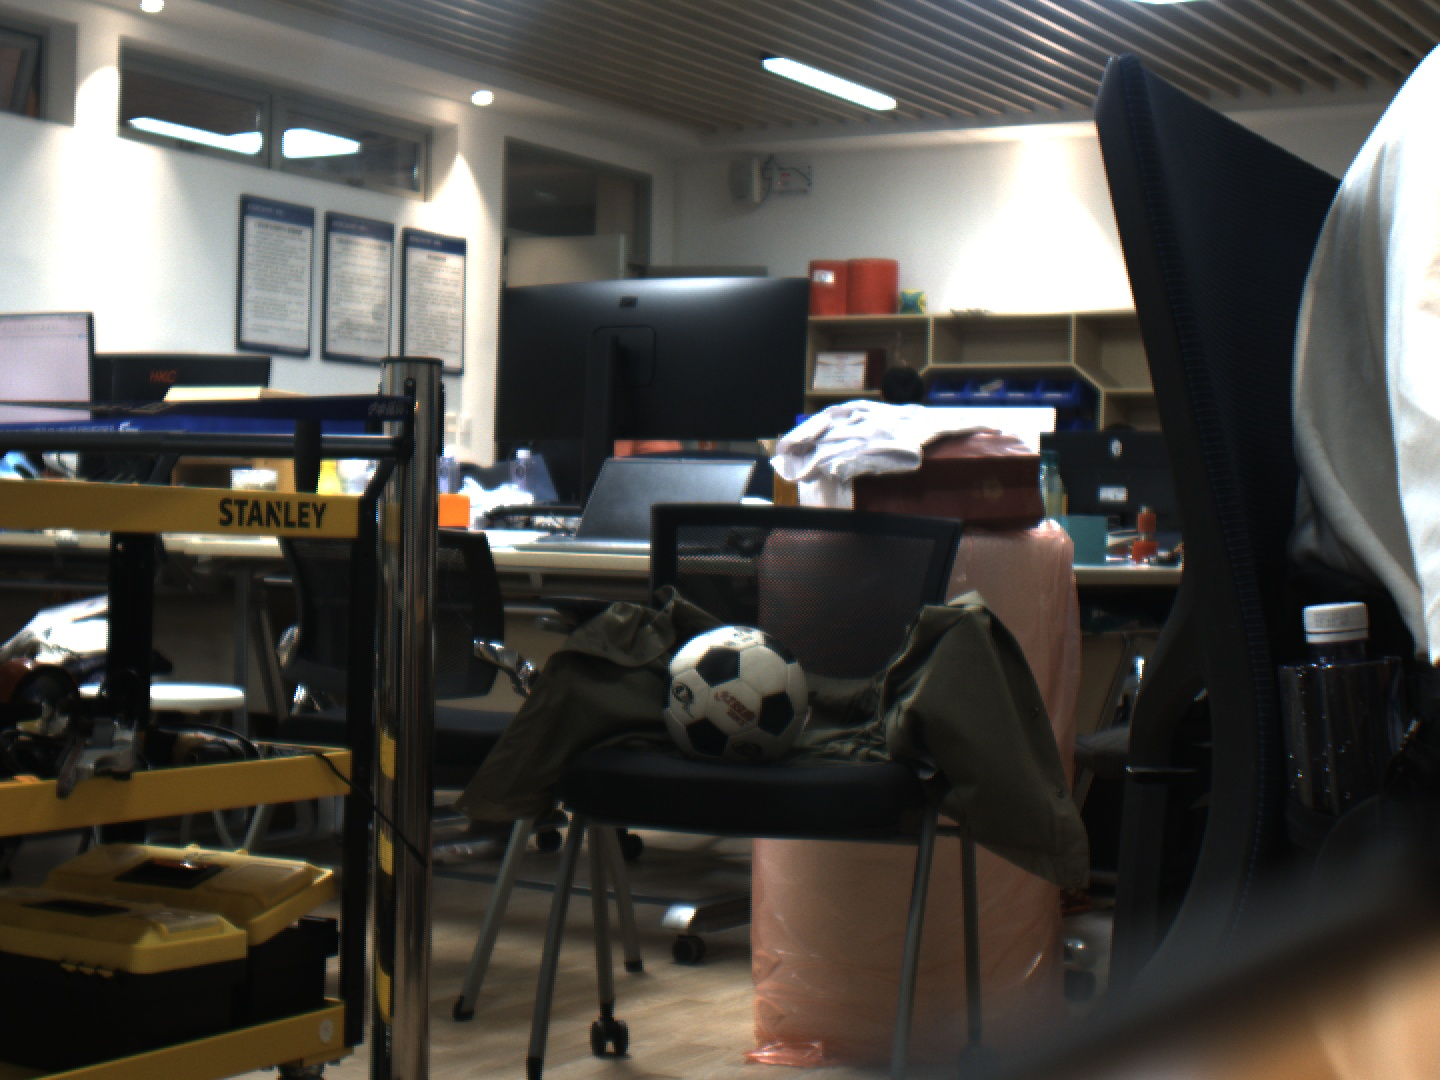ball: (658, 621, 812, 763)
